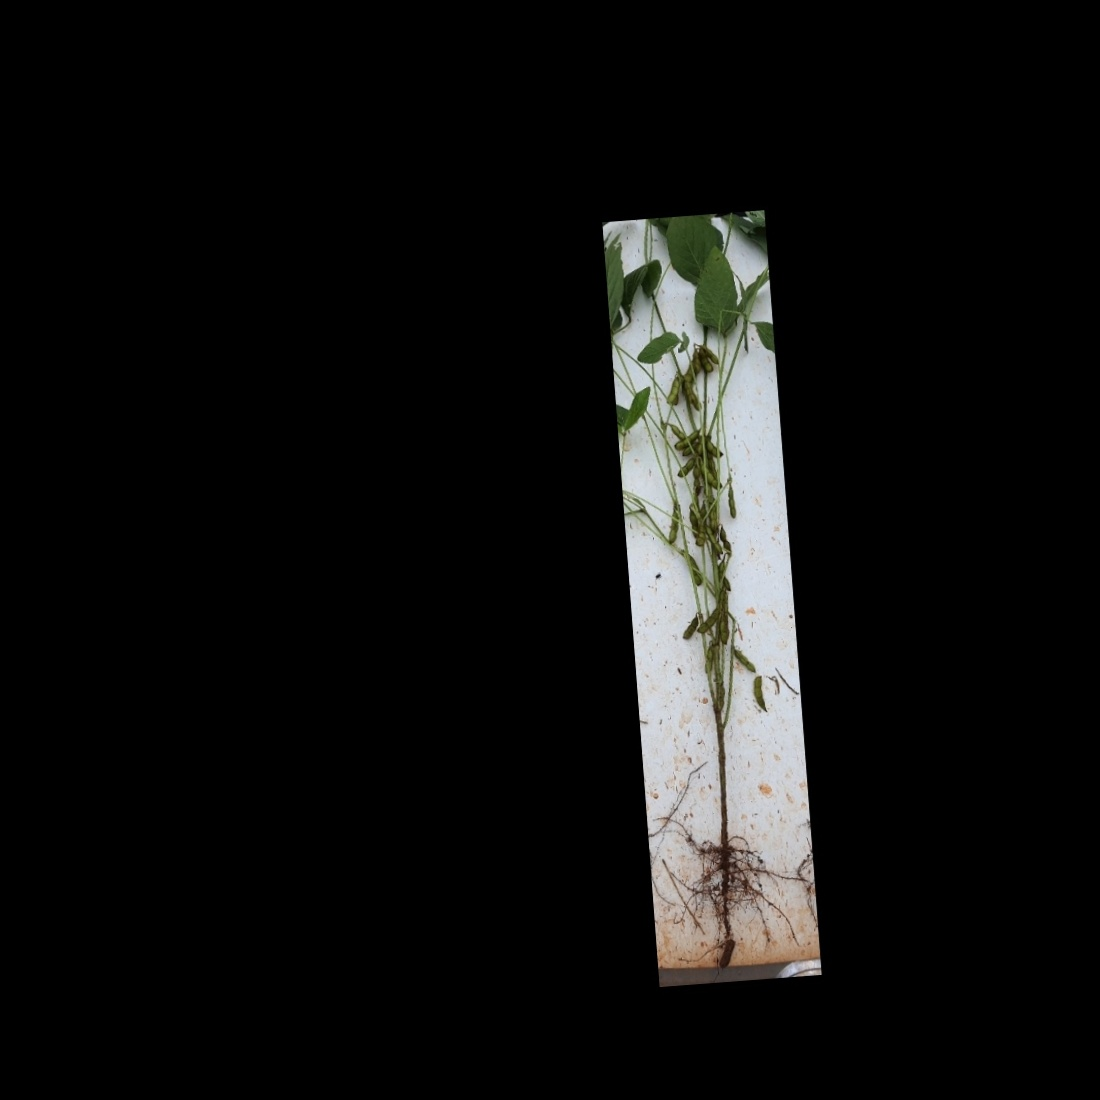pod: (661, 497, 685, 548), (700, 519, 726, 560), (748, 672, 771, 715), (676, 611, 706, 642), (719, 484, 741, 523), (662, 370, 684, 409), (732, 643, 759, 675), (670, 429, 704, 453), (694, 608, 724, 636), (672, 453, 700, 480), (693, 343, 715, 377)
soy: (608, 220, 814, 911)
